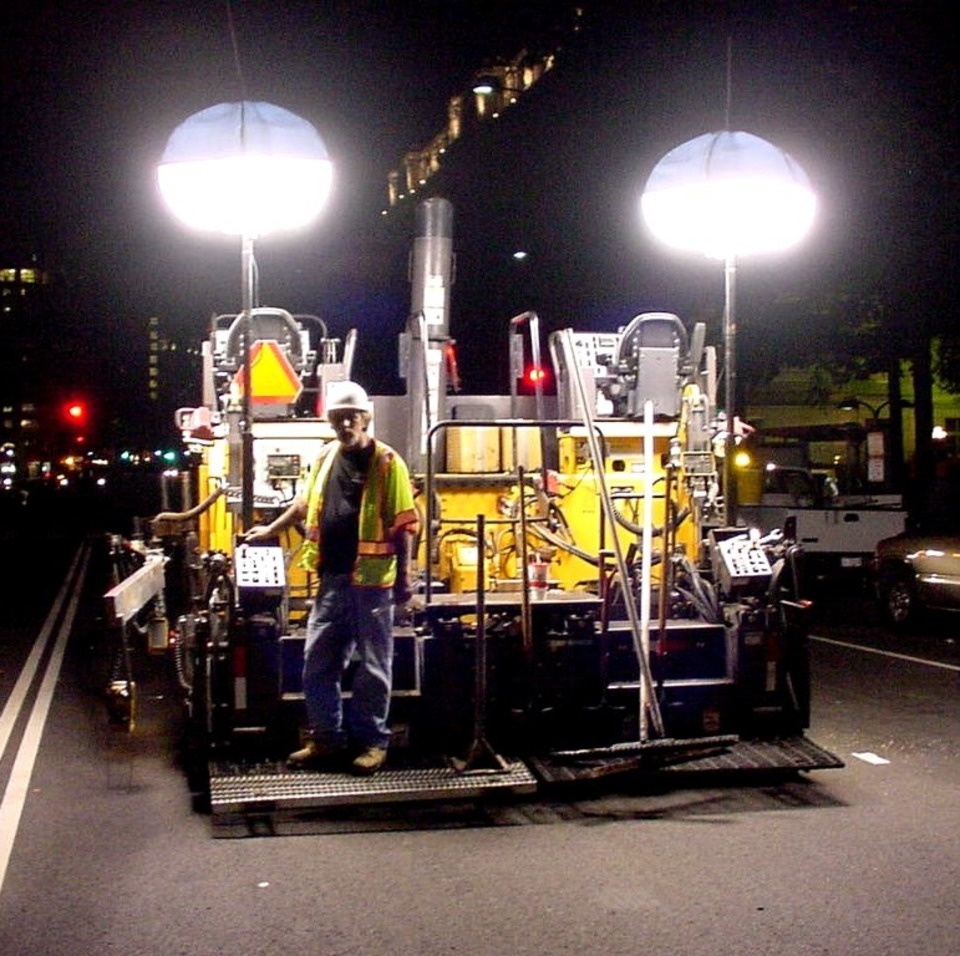white: (324, 380, 370, 447)
